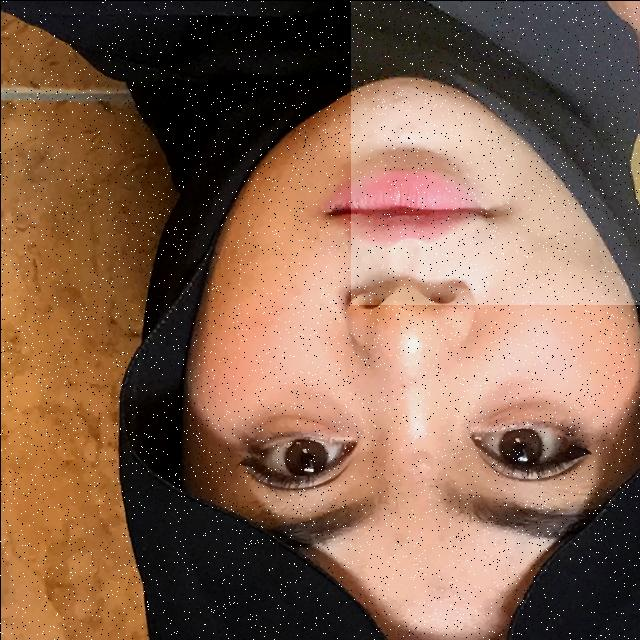kamu: (350, 0, 640, 304)
